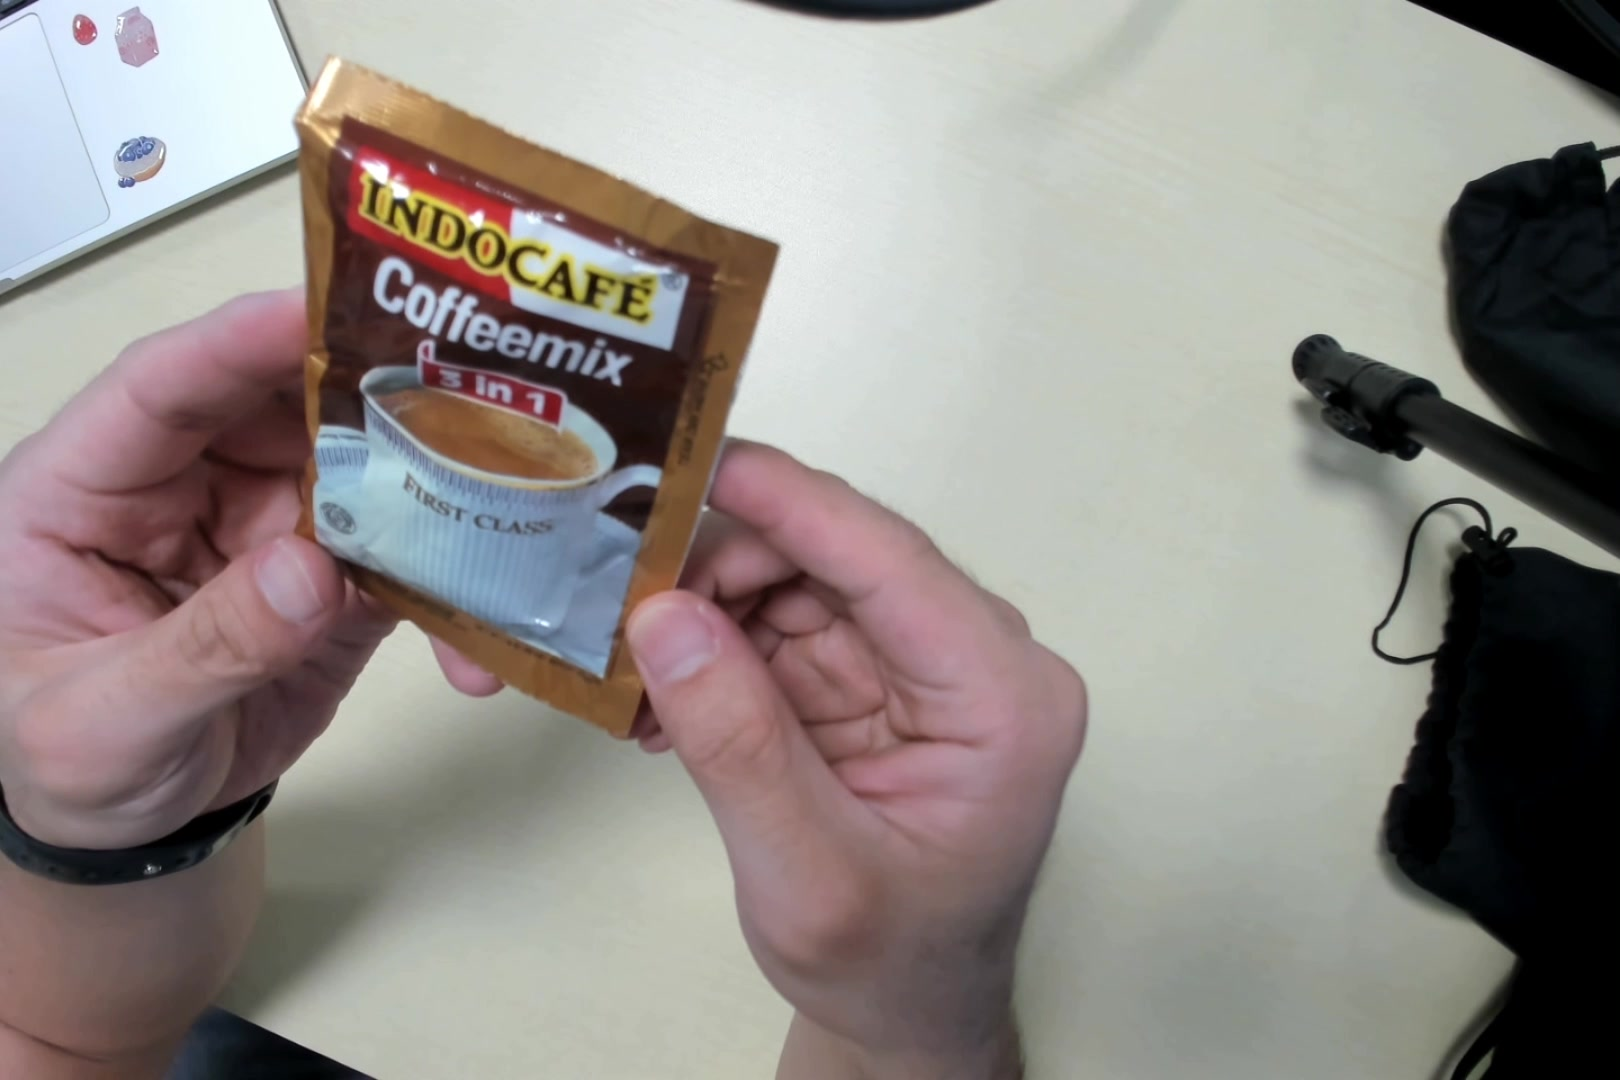Coffee(Powder)_0-99g_NonHalal_NonHealthy: (284, 55, 777, 749)
